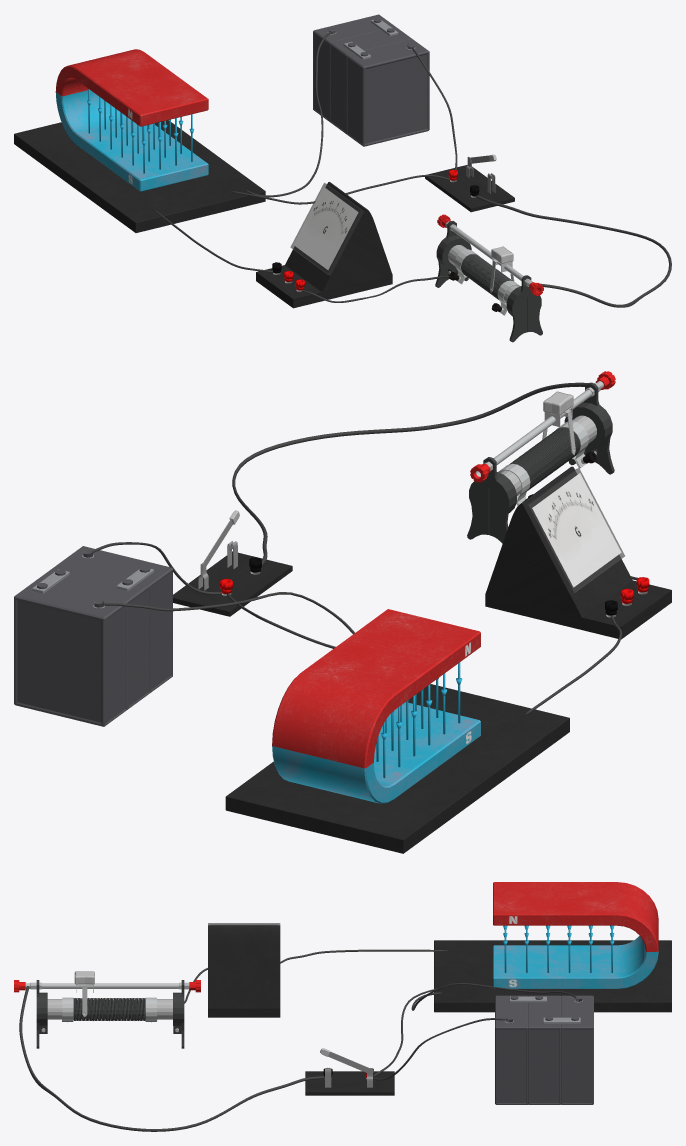
File: equipment.fbx
3 views of the same model, one above another, from view 1: azimuth 30°, elevation 25°; view 2: azimuth 150°, elevation 25°; view 3: azimuth 270°, elevation 25° (orthographic). The views are drawn at different scales.
Parts seen in each view (by area): view 1: 蹄形磁铁, 电池组, 底座, 滑动变阻器, 立方体.001, 平面, 立方体, Cube, 柱体.006, Line005, 立方体.002, Line009 (+2 smaller); view 2: 蹄形磁铁, 电池组, 底座, 滑动变阻器, 立方体.001, 平面, 立方体, Cube, Line005, 柱体.006, 立方体.002, 滑动变阻器滑杆 (+1 smaller); view 3: 蹄形磁铁, 电池组, 底座, 立方体.001, 滑动变阻器, Cube, Line005, 立方体, 柱体.006, Line009, 滑动变阻器滑杆, Line004.
Boxes of the visible parts, <box> form: 蹄形磁铁: <box>55,49,208,191</box>; 电池组: <box>313,14,429,146</box>; 底座: <box>14,120,265,232</box>; 滑动变阻器: <box>435,214,543,342</box>; 立方体.001: <box>285,182,392,291</box>; 平面: <box>293,186,358,269</box>; 立方体: <box>256,265,392,308</box>; Cube: <box>425,165,514,212</box>; 柱体.006: <box>88,89,192,173</box>; Line005: <box>475,195,671,307</box>; 立方体.002: <box>290,183,363,275</box>; Line009: <box>245,32,330,197</box>; 蹄形磁铁: <box>272,609,480,803</box>; 电池组: <box>14,546,172,726</box>; 底座: <box>225,684,569,853</box>; 滑动变阻器: <box>467,371,615,543</box>; 立方体.001: <box>485,466,632,617</box>; 平面: <box>532,473,621,587</box>; 立方体: <box>485,580,671,639</box>; Cube: <box>173,551,292,616</box>; Line005: <box>232,382,588,565</box>; 柱体.006: <box>376,662,460,778</box>; 立方体.002: <box>524,468,624,594</box>; 滑动变阻器滑杆: <box>542,391,575,455</box>; 蹄形磁铁: <box>493,882,658,988</box>; 电池组: <box>495,995,593,1104</box>; 底座: <box>434,940,671,1012</box>; 立方体.001: <box>208,925,280,1008</box>; 滑动变阻器: <box>14,980,200,1048</box>; Cube: <box>305,1071,394,1095</box>; Line005: <box>19,986,324,1131</box>; 立方体: <box>208,1008,280,1017</box>; 柱体.006: <box>504,925,612,972</box>; Line009: <box>411,983,576,1010</box>; 滑动变阻器滑杆: <box>74,971,94,1016</box>; Line004: <box>280,949,447,963</box>.
Bounding box in the file's own units: 247 × 55.44 × 378.
